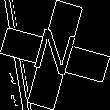N_S: (29, 25, 81, 85)
